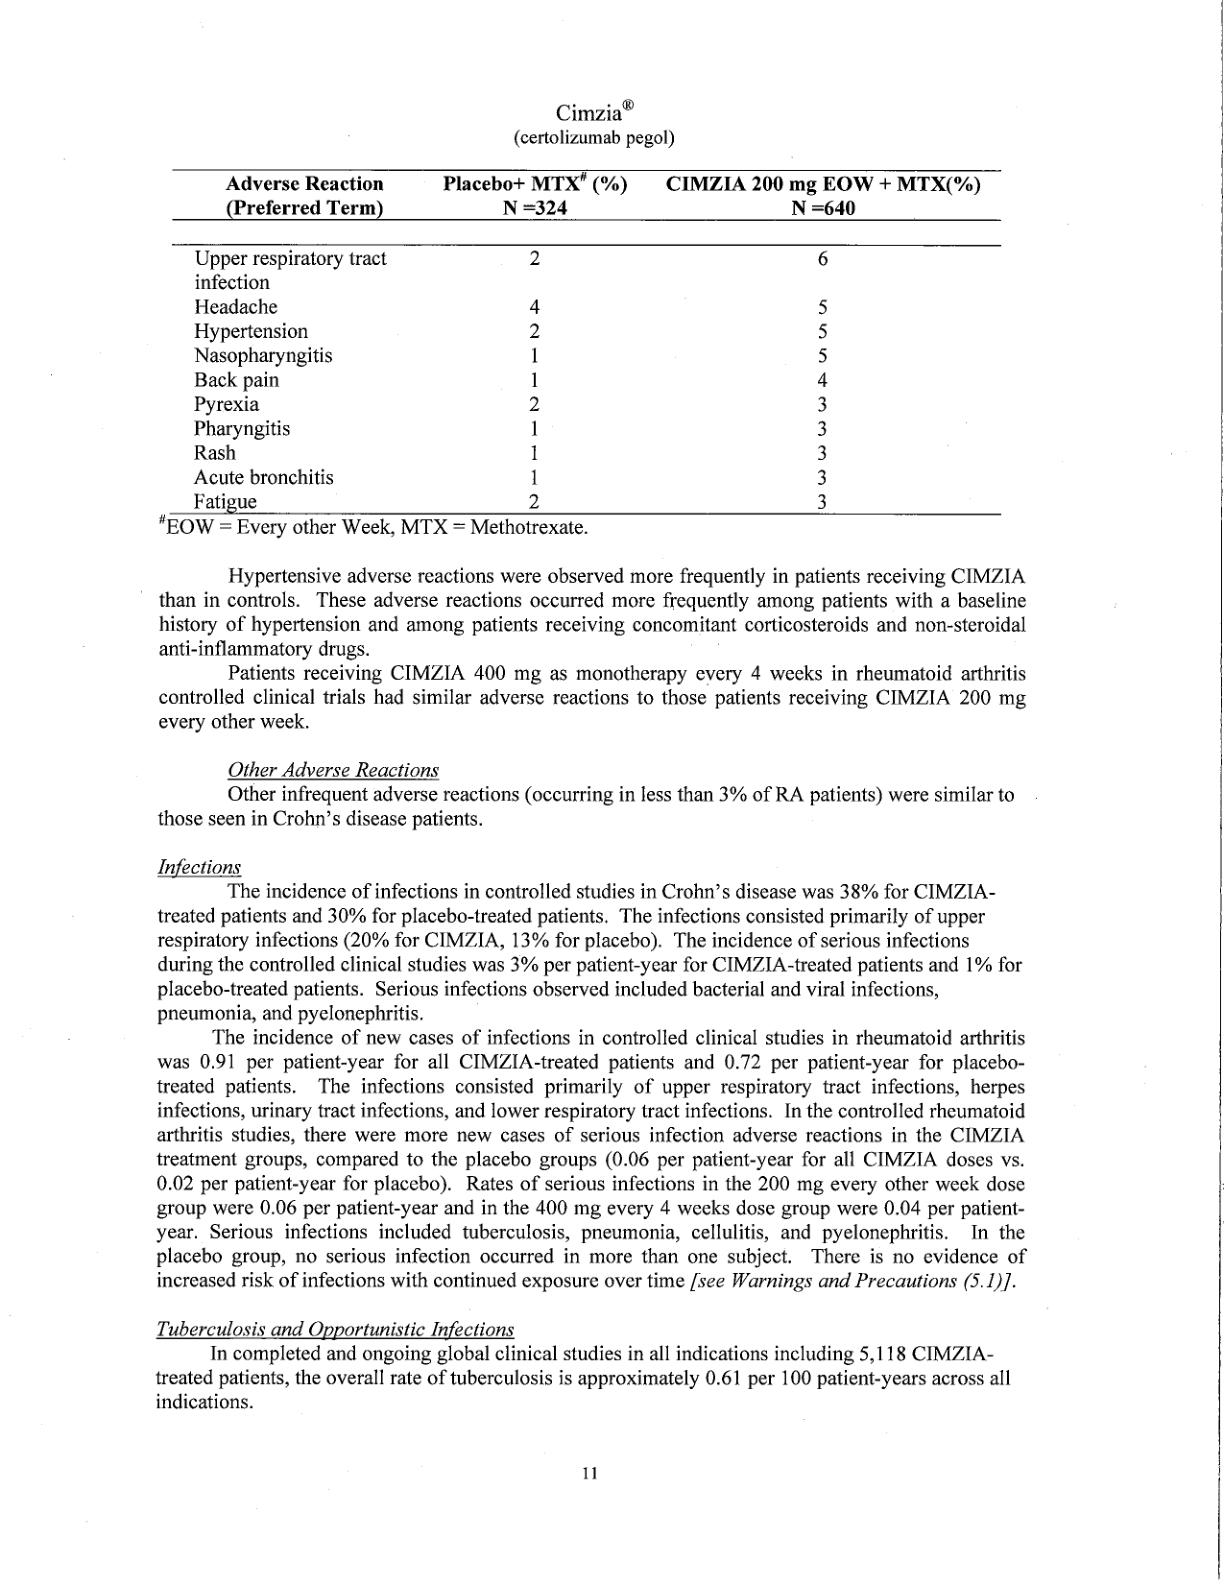partial_lined: (172, 168, 1003, 517)
